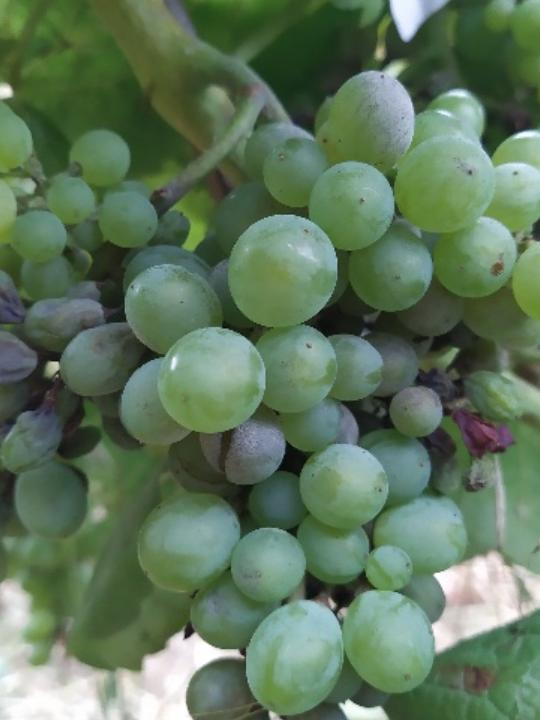grape: (0, 63, 540, 720)
